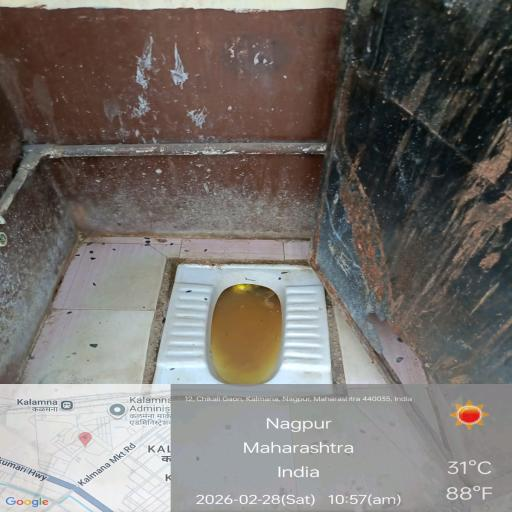dirty_floor: (333, 0, 512, 347)
partial_dirty_floor: (0, 17, 346, 235), (0, 226, 147, 391)
partial_dirty_indian: (148, 257, 344, 395)
